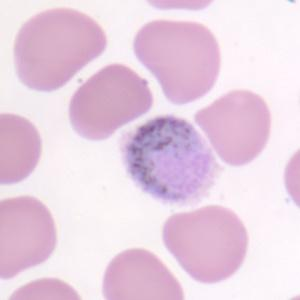Infected: (119, 114, 221, 205)
Uninfected: (14, 5, 106, 93), (133, 20, 221, 104), (69, 64, 155, 144), (163, 207, 248, 284), (193, 92, 272, 167)
